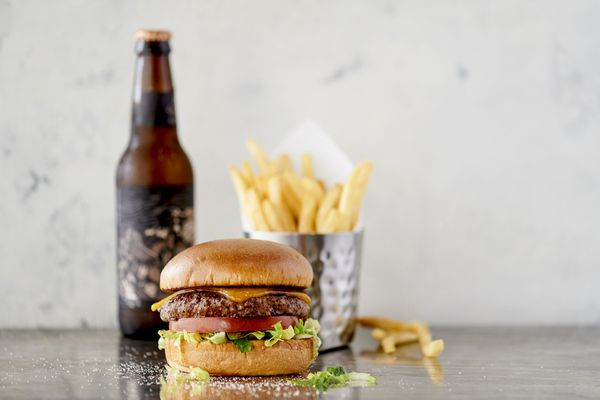pizza: (244, 228, 364, 351)
soup: (150, 237, 323, 383)
